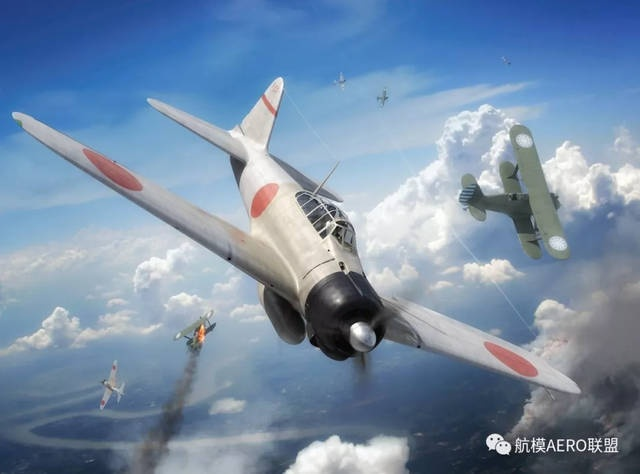airplane: (8, 74, 588, 401), (457, 119, 574, 268), (174, 311, 220, 368), (98, 360, 130, 411)
